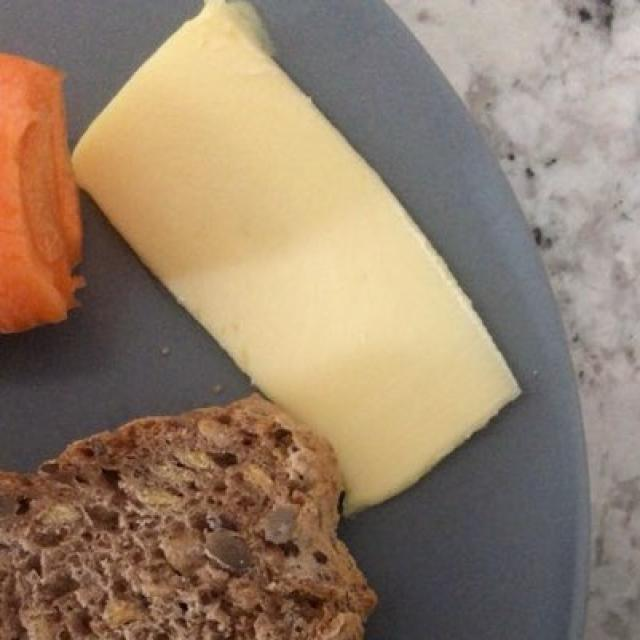butter: (71, 23, 511, 488)
